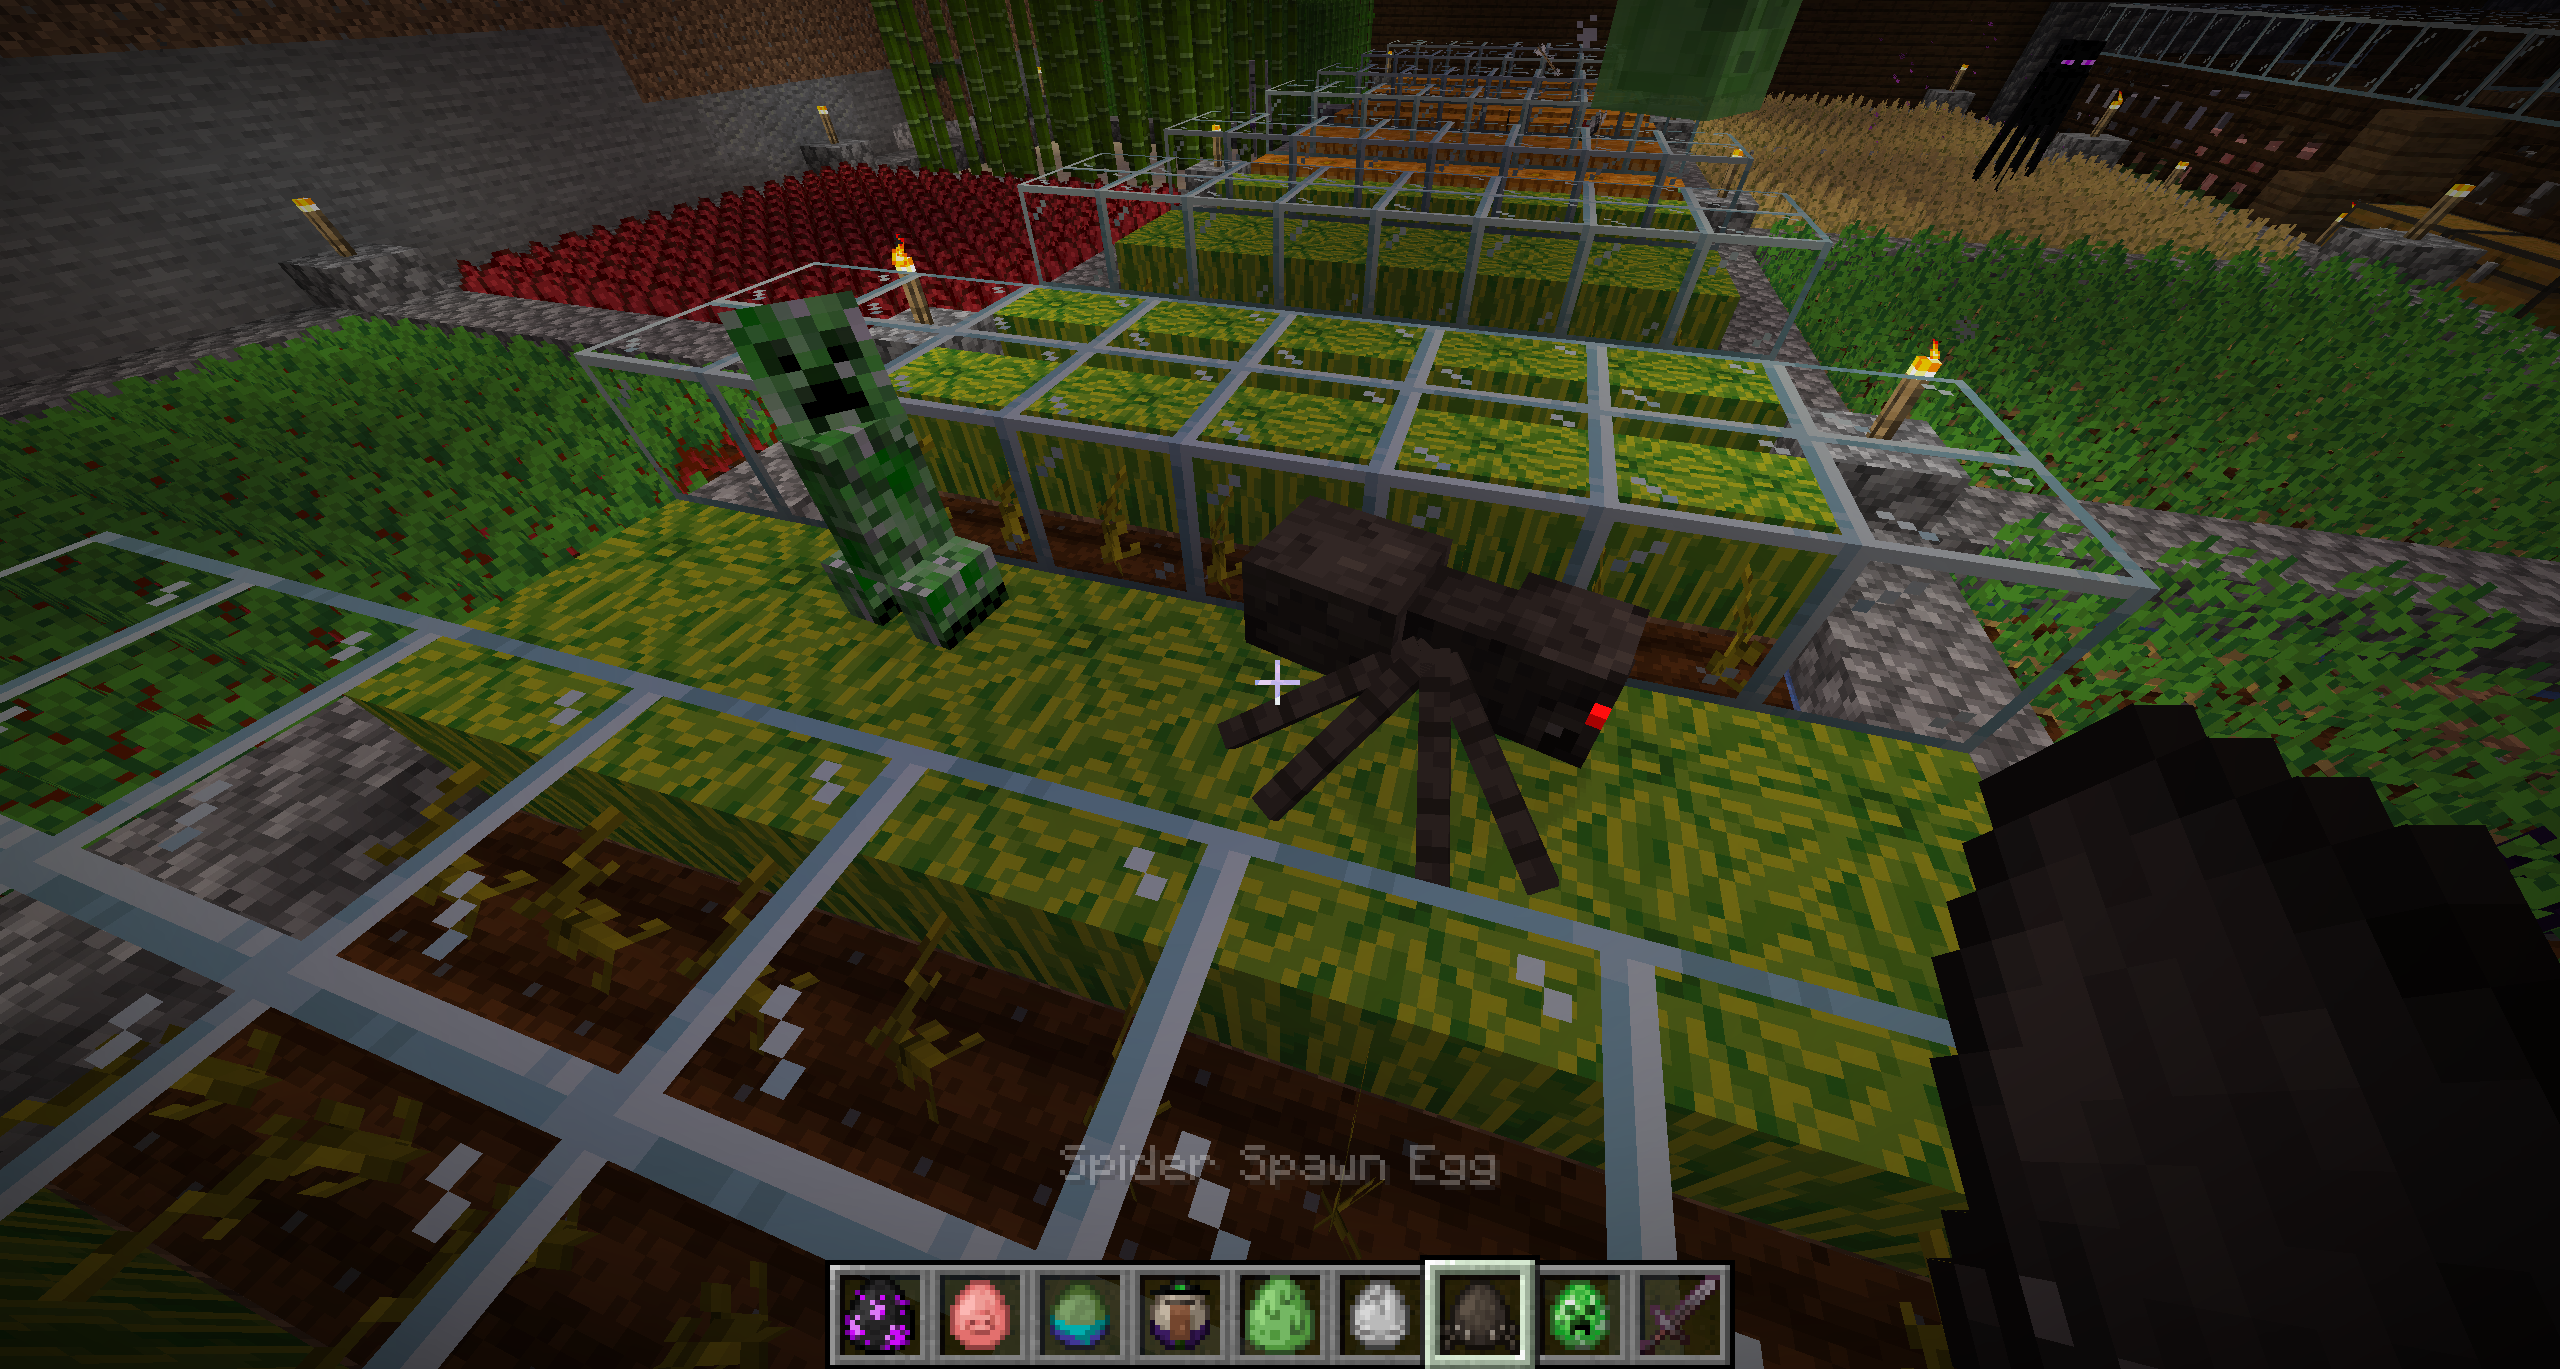araignees: (1233, 491, 1647, 882)
creepers: (704, 294, 1007, 645)
endermens: (2017, 32, 2101, 200)
slimes: (1593, 2, 1805, 124)
